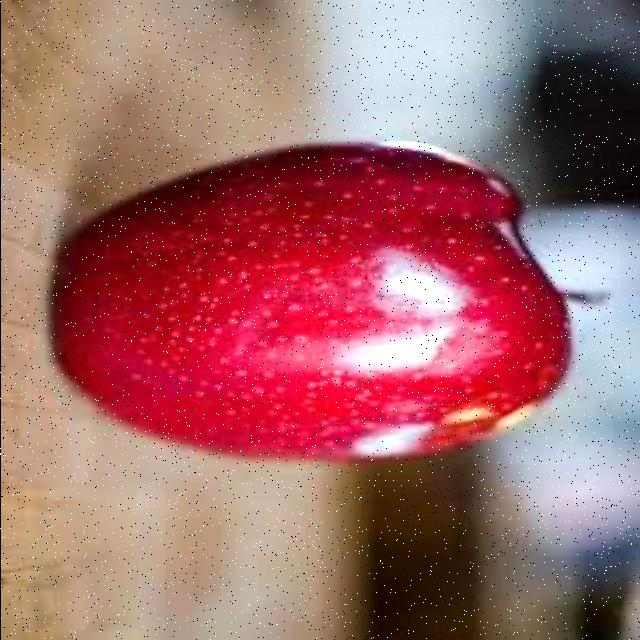HEALTHY: (70, 139, 584, 465)
